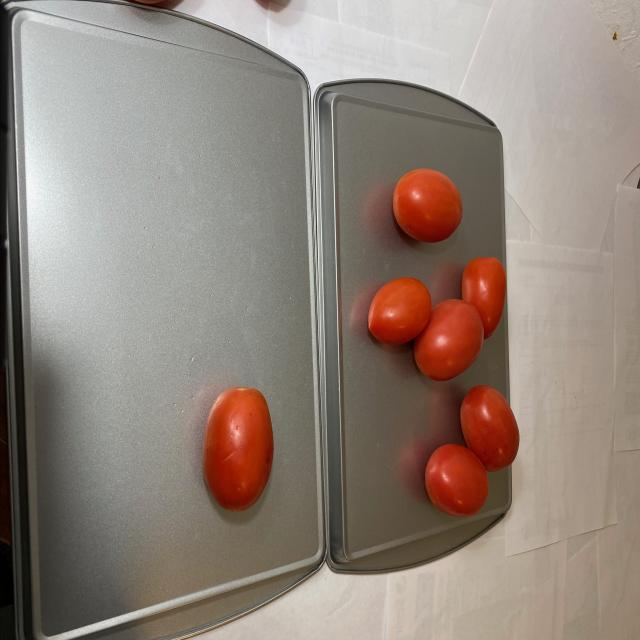tomato: (362, 149, 516, 521), (202, 384, 279, 525)
